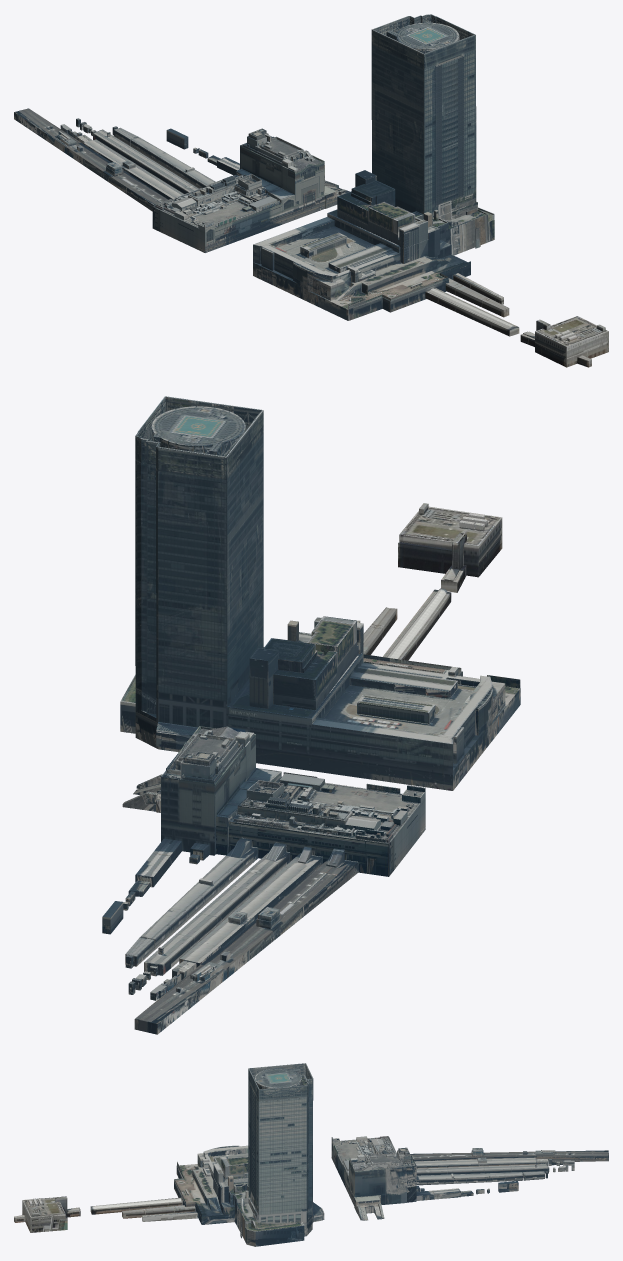
File: sinjyuku.glb
The picture shows the model from 3 angles, top to bottom: view 1: azimuth 30°, elevation 25°; view 2: azimuth 150°, elevation 25°; view 3: azimuth 270°, elevation 25°; orthographic projection. The views are drawn at different scales.
Parts seen in each view (by area): view 1: bldg_6a5be1be-eea6-45ce-80cb-5a228581b362, bldg_df40b0c1-53fc-4541-80f5-638976540ee7, bldg_4712e66f-672c-4236-a561-3f95af46efc2, bldg_12e9ee5a-b5f7-4f28-9989-ad98fdc599ab, bldg_8ec3c42d-51d2-442e-82d8-3f2edceb52bf, bldg_f4460f5e-2e48-4539-a7bd-5ee025f494d1, bldg_26f269dc-9560-4e36-afc4-8a9a011ee7c0, bldg_c3c5dbf3-5af2-4658-8944-98a17ce4e6c4, bldg_1c171713-55b0-44c9-b51d-95e7fdcb939c, bldg_2402e626-5878-4b85-8fc6-1500663f731e; view 2: bldg_6a5be1be-eea6-45ce-80cb-5a228581b362, bldg_df40b0c1-53fc-4541-80f5-638976540ee7, bldg_4712e66f-672c-4236-a561-3f95af46efc2, bldg_12e9ee5a-b5f7-4f28-9989-ad98fdc599ab, bldg_8ec3c42d-51d2-442e-82d8-3f2edceb52bf, bldg_f4460f5e-2e48-4539-a7bd-5ee025f494d1, bldg_c3c5dbf3-5af2-4658-8944-98a17ce4e6c4, bldg_26f269dc-9560-4e36-afc4-8a9a011ee7c0, bldg_ba416185-1caa-4996-9dec-053886823225, bldg_1c171713-55b0-44c9-b51d-95e7fdcb939c, bldg_68b0ee2c-e5ae-4fe8-bc81-01b7df473980; view 3: bldg_6a5be1be-eea6-45ce-80cb-5a228581b362, bldg_df40b0c1-53fc-4541-80f5-638976540ee7, bldg_4712e66f-672c-4236-a561-3f95af46efc2, bldg_12e9ee5a-b5f7-4f28-9989-ad98fdc599ab, bldg_c3c5dbf3-5af2-4658-8944-98a17ce4e6c4, bldg_8ec3c42d-51d2-442e-82d8-3f2edceb52bf, bldg_f4460f5e-2e48-4539-a7bd-5ee025f494d1, bldg_26f269dc-9560-4e36-afc4-8a9a011ee7c0, bldg_1c171713-55b0-44c9-b51d-95e7fdcb939c, bldg_dfc219f8-37ad-4896-9fe2-b1cafe5e48c2, bldg_ba416185-1caa-4996-9dec-053886823225, bldg_2402e626-5878-4b85-8fc6-1500663f731e.
Part boxes in pixels (x1,y1,x2,y2): bldg_6a5be1be-eea6-45ce-80cb-5a228581b362: (253,14,494,320); bldg_df40b0c1-53fc-4541-80f5-638976540ee7: (152,128,324,252); bldg_4712e66f-672c-4236-a561-3f95af46efc2: (14,108,167,211); bldg_12e9ee5a-b5f7-4f28-9989-ad98fdc599ab: (535,316,608,367); bldg_8ec3c42d-51d2-442e-82d8-3f2edceb52bf: (93,129,198,193); bldg_f4460f5e-2e48-4539-a7bd-5ee025f494d1: (77,134,183,199); bldg_26f269dc-9560-4e36-afc4-8a9a011ee7c0: (425,288,519,336); bldg_c3c5dbf3-5af2-4658-8944-98a17ce4e6c4: (130,137,215,188); bldg_1c171713-55b0-44c9-b51d-95e7fdcb939c: (445,278,509,317); bldg_2402e626-5878-4b85-8fc6-1500663f731e: (453,273,503,304); bldg_6a5be1be-eea6-45ce-80cb-5a228581b362: (120,396,520,790); bldg_df40b0c1-53fc-4541-80f5-638976540ee7: (161,726,425,876); bldg_4712e66f-672c-4236-a561-3f95af46efc2: (134,848,358,1034); bldg_12e9ee5a-b5f7-4f28-9989-ad98fdc599ab: (398,503,502,577); bldg_8ec3c42d-51d2-442e-82d8-3f2edceb52bf: (144,842,290,976); bldg_f4460f5e-2e48-4539-a7bd-5ee025f494d1: (172,846,322,979); bldg_c3c5dbf3-5af2-4658-8944-98a17ce4e6c4: (140,837,258,949); bldg_26f269dc-9560-4e36-afc4-8a9a011ee7c0: (383,588,451,660); bldg_ba416185-1caa-4996-9dec-053886823225: (128,838,181,896); bldg_1c171713-55b0-44c9-b51d-95e7fdcb939c: (363,607,397,655); bldg_68b0ee2c-e5ae-4fe8-bc81-01b7df473980: (156,722,197,749); bldg_6a5be1be-eea6-45ce-80cb-5a228581b362: (174,1063,313,1246); bldg_df40b0c1-53fc-4541-80f5-638976540ee7: (331,1136,416,1205); bldg_4712e66f-672c-4236-a561-3f95af46efc2: (410,1148,608,1161); bldg_12e9ee5a-b5f7-4f28-9989-ad98fdc599ab: (22,1196,67,1232); bldg_c3c5dbf3-5af2-4658-8944-98a17ce4e6c4: (416,1172,522,1185); bldg_8ec3c42d-51d2-442e-82d8-3f2edceb52bf: (416,1164,549,1175); bldg_f4460f5e-2e48-4539-a7bd-5ee025f494d1: (414,1157,548,1168); bldg_26f269dc-9560-4e36-afc4-8a9a011ee7c0: (90,1197,182,1214); bldg_1c171713-55b0-44c9-b51d-95e7fdcb939c: (122,1205,195,1218); bldg_dfc219f8-37ad-4896-9fe2-b1cafe5e48c2: (354,1195,381,1220); bldg_ba416185-1caa-4996-9dec-053886823225: (416,1188,473,1200); bldg_2402e626-5878-4b85-8fc6-1500663f731e: (142,1211,197,1221).
Bounding box in the file's own units: 222 × 170 × 605.
84 materials, 84 textured.
